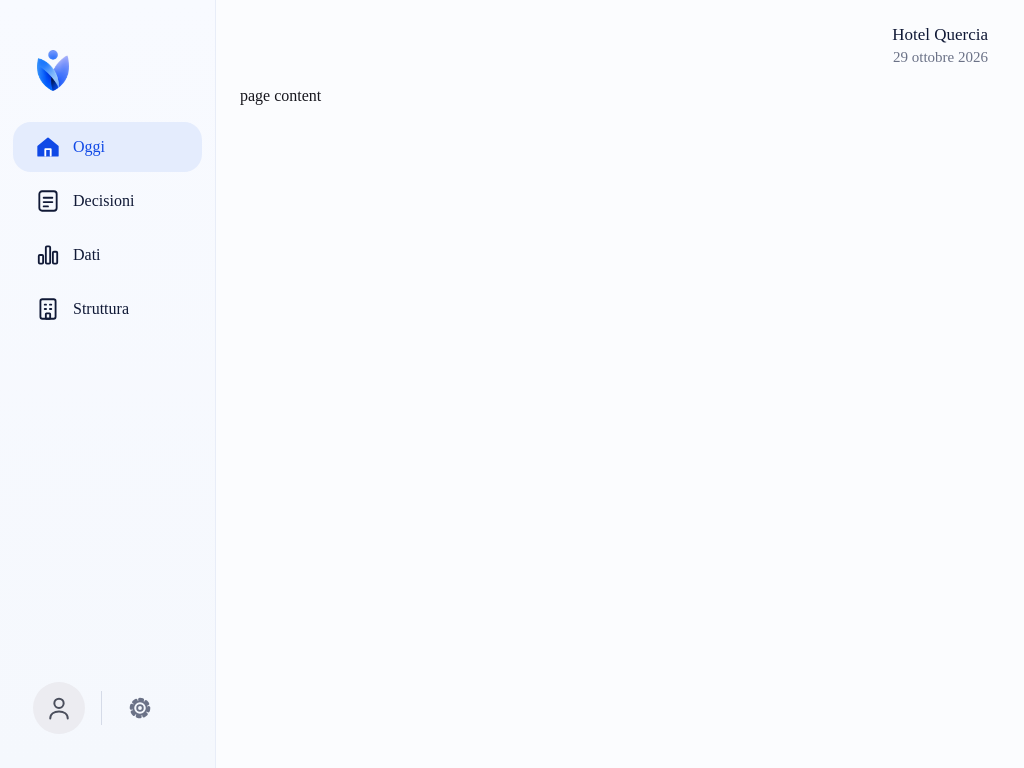
AppShell - profile menu › is closed by default and discloses display name, e-mail and Esci on click
What coordinates should you click on to do the following:
click the button named "Profilo e account"
I would click on:
 (59, 708)
Its box is x1=33 y1=682 x2=85 y2=734.
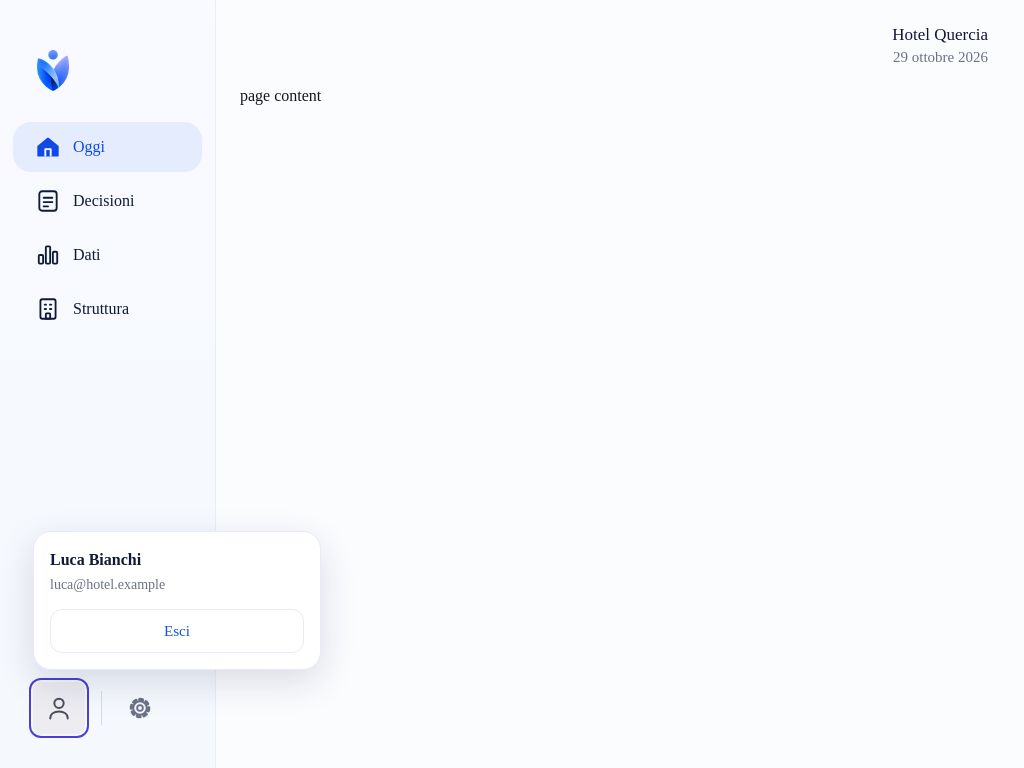
Check: the text "Luca Bianchi" is shown, box x1=50 y1=551 x2=141 y2=568
Check: the text "luca@hotel.example" is shown, box x1=50 y1=577 x2=165 y2=592
Check: the button "Esci" is shown, box x1=50 y1=609 x2=304 y2=653
